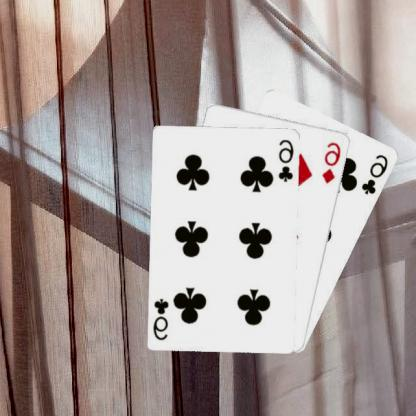6C: (361, 151, 392, 196), (278, 136, 298, 183), (152, 295, 172, 341)
6D: (321, 138, 345, 184)
